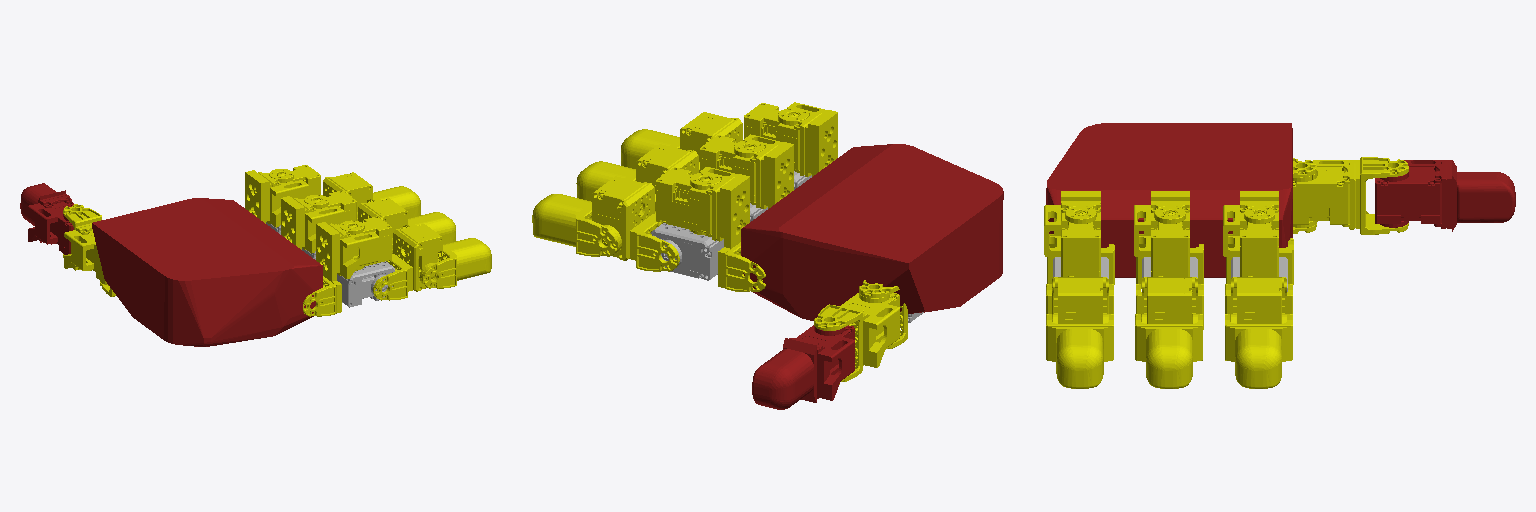
The robot description file, URDF, robot "leap_hand":
<?xml version="1.0" ?>
<robot name="leap_hand">
  <link name="palm_lower">
    <inertial>
      <origin xyz="0.0 0.0 0.0" rpy="0.0 0.0 0.0"/>
      <mass value="0.237"/>
      <inertia ixx="0.000354094" ixy="-1.193e-06" ixz="-2.445e-06" iyy="0.000260915" iyz="-2.905e-06" izz="0.000529257"/>
    </inertial>
    <visual>
      <geometry>
        <mesh filename="./hand_meshes/palm_lower.stl"/>
      </geometry>
      <material name="palm_lower_material"/>
      <origin xyz="-0.020095249652862544 0.025757756134899473 -0.034722403578460216" rpy="0.0 -0.0 0.0"/>
    </visual>
    <collision>
      <geometry>
        <mesh filename="./hand_meshes/palm_lower.stl"/>
      </geometry>
      <origin xyz="-0.020095249652862544 0.025757756134899473 -0.034722403578460216" rpy="0.0 -0.0 0.0"/>
    </collision>
  </link>
  <link name="mcp_joint">
    <inertial>
      <origin xyz="0.0 0.0 0.0" rpy="0.0 0.0 0.0"/>
      <mass value="0.044"/>
      <inertia ixx="1.1499e-05" ixy="3.049e-06" ixz="1.21e-07" iyy="7.796e-06" iyz="1.12e-07" izz="1.4759e-05"/>
    </inertial>
    <visual>
      <geometry>
        <mesh filename="./hand_meshes/mcp_joint.stl"/>
      </geometry>
      <material name="mcp_joint_material"/>
      <origin xyz="0.008406902261174496 0.0077662438597169954 0.014657354985032912" rpy="1.6375789613221e-15 -1.021047330249102e-30 1.7177968783327987e-31"/>
    </visual>
    <collision>
      <geometry>
        <mesh filename="./hand_meshes/mcp_joint.stl"/>
      </geometry>
      <origin xyz="0.008406902261174496 0.0077662438597169954 0.014657354985032912" rpy="1.6375789613221e-15 -1.021047330249102e-30 1.7177968783327987e-31"/>
    </collision>
  </link>
  <link name="pip">
    <inertial>
      <origin xyz="0.0 0.0 0.0" rpy="0.0 0.0 0.0"/>
      <mass value="0.032"/>
      <inertia ixx="4.798e-06" ixy="1.2e-08" ixz="4e-09" iyy="2.862e-06" iyz="1.1e-08" izz="4.234e-06"/>
    </inertial>
    <visual>
      <geometry>
        <mesh filename="./hand_meshes/pip.stl"/>
      </geometry>
      <material name="pip_material"/>
      <origin xyz="0.009643363092271328 0.0002999999999999895 0.0007840340104173765" rpy="-1.5707963267948966 -1.5707963267948966 0.0"/>
    </visual>
    <collision>
      <geometry>
        <mesh filename="./hand_meshes/pip.stl"/>
      </geometry>
      <origin xyz="0.009643363092271328 0.0002999999999999895 0.0007840340104173765" rpy="-1.5707963267948966 -1.5707963267948966 0.0"/>
    </collision>
  </link>
  <link name="dip">
    <inertial>
      <origin xyz="0.0 0.0 0.0" rpy="0.0 0.0 0.0"/>
      <mass value="0.037"/>
      <inertia ixx="5.542e-06" ixy="-6.07e-07" ixz="-1.7e-08" iyy="5.727e-06" iyz="-2.3e-08" izz="6.682e-06"/>
    </inertial>
    <visual>
      <geometry>
        <mesh filename="./hand_meshes/dip.stl"/>
      </geometry>
      <material name="dip_material"/>
      <origin xyz="0.021133352895225003 -0.00843211914670488 0.00978508816209524" rpy="-3.141592653589793 4.507511124216441e-32 4.439548105392361e-32"/>
    </visual>
    <collision>
      <geometry>
        <mesh filename="./hand_meshes/dip.stl"/>
      </geometry>
      <origin xyz="0.021133352895225003 -0.00843211914670488 0.00978508816209524" rpy="-3.141592653589793 4.507511124216441e-32 4.439548105392361e-32"/>
    </collision>
  </link>
  <link name="fingertip">
    <inertial>
      <origin xyz="0.0 0.0 0.0" rpy="0.0 0.0 0.0"/>
      <mass value="0.016"/>
      <inertia ixx="3.368e-06" ixy="1.15e-07" ixz="0.0" iyy="1.556e-06" iyz="0.0" izz="2.863e-06"/>
    </inertial>
    <visual>
      <geometry>
        <mesh filename="./hand_meshes/fingertip.stl"/>
      </geometry>
      <material name="fingertip_material"/>
      <origin xyz="0.013286424108533503 -0.006114238386541987 0.014499999999999498" rpy="3.141592653589793 1.1993117970061735e-33 4.439548105392361e-32"/>
    </visual>
    <collision>
      <geometry>
        <mesh filename="./hand_meshes/fingertip.stl"/>
      </geometry>
      <origin xyz="0.013286424108533503 -0.006114238386541987 0.014499999999999498" rpy="3.141592653589793 1.1993117970061735e-33 4.439548105392361e-32"/>
    </collision>
  </link>
  <link name="mcp_joint_2">
    <inertial>
      <origin xyz="0.0 0.0 0.0" rpy="0.0 0.0 0.0"/>
      <mass value="0.044"/>
      <inertia ixx="1.1499e-05" ixy="3.049e-06" ixz="1.21e-07" iyy="7.796e-06" iyz="1.12e-07" izz="1.4759e-05"/>
    </inertial>
    <visual>
      <geometry>
        <mesh filename="./hand_meshes/mcp_joint.stl"/>
      </geometry>
      <material name="mcp_joint_material"/>
      <origin xyz="0.008406902261174496 0.0077662438597169954 0.014657354985032914" rpy="1.6375789613221e-15 -1.0076465469034e-30 2.1209300131419907e-61"/>
    </visual>
    <collision>
      <geometry>
        <mesh filename="./hand_meshes/mcp_joint.stl"/>
      </geometry>
      <origin xyz="0.008406902261174496 0.0077662438597169954 0.014657354985032914" rpy="1.6375789613221e-15 -1.0076465469034e-30 2.1209300131419907e-61"/>
    </collision>
  </link>
  <link name="pip_2">
    <inertial>
      <origin xyz="0.0 0.0 0.0" rpy="0.0 0.0 0.0"/>
      <mass value="0.032"/>
      <inertia ixx="4.798e-06" ixy="1.2e-08" ixz="4e-09" iyy="2.862e-06" iyz="1.1e-08" izz="4.234e-06"/>
    </inertial>
    <visual>
      <geometry>
        <mesh filename="./hand_meshes/pip.stl"/>
      </geometry>
      <material name="pip_material"/>
      <origin xyz="0.009643363092271328 0.0002999999999999947 0.0007840340104173765" rpy="-1.5707963267948966 -1.5707963267948966 0.0"/>
    </visual>
    <collision>
      <geometry>
        <mesh filename="./hand_meshes/pip.stl"/>
      </geometry>
      <origin xyz="0.009643363092271328 0.0002999999999999947 0.0007840340104173765" rpy="-1.5707963267948966 -1.5707963267948966 0.0"/>
    </collision>
  </link>
  <link name="dip_2">
    <inertial>
      <origin xyz="0.0 0.0 0.0" rpy="0.0 0.0 0.0"/>
      <mass value="0.037"/>
      <inertia ixx="5.542e-06" ixy="-6.07e-07" ixz="-1.7e-08" iyy="5.727e-06" iyz="-2.3e-08" izz="6.682e-06"/>
    </inertial>
    <visual>
      <geometry>
        <mesh filename="./hand_meshes/dip.stl"/>
      </geometry>
      <material name="dip_material"/>
      <origin xyz="0.021133352895225003 -0.008432119146704865 0.009785088162095237" rpy="-3.141592653589793 2.1146933785271956e-32 1.4408183216511869e-31"/>
    </visual>
    <collision>
      <geometry>
        <mesh filename="./hand_meshes/dip.stl"/>
      </geometry>
      <origin xyz="0.021133352895225003 -0.008432119146704865 0.009785088162095237" rpy="-3.141592653589793 2.1146933785271956e-32 1.4408183216511869e-31"/>
    </collision>
  </link>
  <link name="fingertip_2">
    <inertial>
      <origin xyz="0.0 0.0 0.0" rpy="0.0 0.0 0.0"/>
      <mass value="0.016"/>
      <inertia ixx="3.368e-06" ixy="1.15e-07" ixz="0.0" iyy="1.556e-06" iyz="0.0" izz="2.863e-06"/>
    </inertial>
    <visual>
      <geometry>
        <mesh filename="./hand_meshes/fingertip.stl"/>
      </geometry>
      <material name="fingertip_material"/>
      <origin xyz="0.013286424108533496 -0.006114238386542001 0.014499999999999496" rpy="3.141592653589793 -4.317959788283594e-33 1.4408183216511869e-31"/>
    </visual>
    <collision>
      <geometry>
        <mesh filename="./hand_meshes/fingertip.stl"/>
      </geometry>
      <origin xyz="0.013286424108533496 -0.006114238386542001 0.014499999999999496" rpy="3.141592653589793 -4.317959788283594e-33 1.4408183216511869e-31"/>
    </collision>
  </link>
  <link name="mcp_joint_3">
    <inertial>
      <origin xyz="0.0 0.0 0.0" rpy="0.0 0.0 0.0"/>
      <mass value="0.044"/>
      <inertia ixx="1.1499e-05" ixy="3.049e-06" ixz="1.21e-07" iyy="7.796e-06" iyz="1.12e-07" izz="1.4759e-05"/>
    </inertial>
    <visual>
      <geometry>
        <mesh filename="./hand_meshes/mcp_joint.stl"/>
      </geometry>
      <material name="mcp_joint_material"/>
      <origin xyz="0.0084069022611745 0.007766243859716996 0.014657354985032914" rpy="1.6375789613221e-15 -1.0059504988632627e-30 5.729641584552035e-32"/>
    </visual>
    <collision>
      <geometry>
        <mesh filename="./hand_meshes/mcp_joint.stl"/>
      </geometry>
      <origin xyz="0.0084069022611745 0.007766243859716996 0.014657354985032914" rpy="1.6375789613221e-15 -1.0059504988632627e-30 5.729641584552035e-32"/>
    </collision>
  </link>
  <link name="pip_3">
    <inertial>
      <origin xyz="0.0 0.0 0.0" rpy="0.0 0.0 0.0"/>
      <mass value="0.032"/>
      <inertia ixx="4.798e-06" ixy="1.2e-08" ixz="4e-09" iyy="2.862e-06" iyz="1.1e-08" izz="4.234e-06"/>
    </inertial>
    <visual>
      <geometry>
        <mesh filename="./hand_meshes/pip.stl"/>
      </geometry>
      <material name="pip_material"/>
      <origin xyz="0.009643363092271331 0.00029999999999998084 0.0007840340104173765" rpy="-1.5707963267948966 -1.5707963267948966 0.0"/>
    </visual>
    <collision>
      <geometry>
        <mesh filename="./hand_meshes/pip.stl"/>
      </geometry>
      <origin xyz="0.009643363092271331 0.00029999999999998084 0.0007840340104173765" rpy="-1.5707963267948966 -1.5707963267948966 0.0"/>
    </collision>
  </link>
  <link name="dip_3">
    <inertial>
      <origin xyz="0.0 0.0 0.0" rpy="0.0 0.0 0.0"/>
      <mass value="0.037"/>
      <inertia ixx="5.542e-06" ixy="-6.07e-07" ixz="-1.7e-08" iyy="5.727e-06" iyz="-2.3e-08" izz="6.682e-06"/>
    </inertial>
    <visual>
      <geometry>
        <mesh filename="./hand_meshes/dip.stl"/>
      </geometry>
      <material name="dip_material"/>
      <origin xyz="0.021133352895225006 -0.008432119146704865 0.009785088162095237" rpy="-3.141592653589793 -1.4095651113919093e-33 1.5565411607615035e-32"/>
    </visual>
    <collision>
      <geometry>
        <mesh filename="./hand_meshes/dip.stl"/>
      </geometry>
      <origin xyz="0.021133352895225006 -0.008432119146704865 0.009785088162095237" rpy="-3.141592653589793 -1.4095651113919093e-33 1.5565411607615035e-32"/>
    </collision>
  </link>
  <link name="fingertip_3">
    <inertial>
      <origin xyz="0.0 0.0 0.0" rpy="0.0 0.0 0.0"/>
      <mass value="0.016"/>
      <inertia ixx="3.368e-06" ixy="1.15e-07" ixz="0.0" iyy="1.556e-06" iyz="0.0" izz="2.863e-06"/>
    </inertial>
    <visual>
      <geometry>
        <mesh filename="./hand_meshes/fingertip.stl"/>
      </geometry>
      <material name="fingertip_material"/>
      <origin xyz="0.013286424108533501 -0.006114238386541987 0.0144999999999995" rpy="3.141592653589793 8.61707169505754e-33 1.5565411607615035e-32"/>
    </visual>
    <collision>
      <geometry>
        <mesh filename="./hand_meshes/fingertip.stl"/>
      </geometry>
      <origin xyz="0.013286424108533501 -0.006114238386541987 0.0144999999999995" rpy="3.141592653589793 8.61707169505754e-33 1.5565411607615035e-32"/>
    </collision>
  </link>
  <link name="pip_4">
    <inertial>
      <origin xyz="0.0 0.0 0.0" rpy="0.0 0.0 0.0"/>
      <mass value="0.032"/>
      <inertia ixx="4.798e-06" ixy="1.2e-08" ixz="4e-09" iyy="2.862e-06" iyz="1.1e-08" izz="4.234e-06"/>
    </inertial>
    <visual>
      <geometry>
        <mesh filename="./hand_meshes/pip.stl"/>
      </geometry>
      <material name="pip_material"/>
      <origin xyz="-0.005356636907728671 0.0002999999999999999 0.0007840340104173782" rpy="-1.5707963267948966 -1.5707963267948966 0.0"/>
    </visual>
    <collision>
      <geometry>
        <mesh filename="./hand_meshes/pip.stl"/>
      </geometry>
      <origin xyz="-0.005356636907728671 0.0002999999999999999 0.0007840340104173782" rpy="-1.5707963267948966 -1.5707963267948966 0.0"/>
    </collision>
  </link>
  <link name="thumb_pip">
    <inertial>
      <origin xyz="0.0 0.0 0.0" rpy="0.0 0.0 0.0"/>
      <mass value="0.003"/>
      <inertia ixx="5.93e-07" ixy="0.0" ixz="0.0" iyy="5.49e-07" iyz="0.0" izz="2.24e-07"/>
    </inertial>
    <visual>
      <geometry>
        <mesh filename="./hand_meshes/thumb_pip.stl"/>
      </geometry>
      <material name="thumb_pip_material"/>
      <origin xyz="0.011961920770611187 -5.30825383648903e-16 -0.0158526489566642" rpy="1.5707963267948966 1.6050198443300153e-46 -3.9204996250525193e-59"/>
    </visual>
    <collision>
      <geometry>
        <mesh filename="./hand_meshes/thumb_pip.stl"/>
      </geometry>
      <origin xyz="0.011961920770611187 -5.30825383648903e-16 -0.0158526489566642" rpy="1.5707963267948966 1.6050198443300153e-46 -3.9204996250525193e-59"/>
    </collision>
  </link>
  <link name="thumb_dip">
    <inertial>
      <origin xyz="0.0 0.0 0.0" rpy="0.0 0.0 0.0"/>
      <mass value="0.038"/>
      <inertia ixx="8.474e-06" ixy="2.41e-07" ixz="2.6e-08" iyy="3.841e-06" iyz="2.5e-08" izz="7.679e-06"/>
    </inertial>
    <visual>
      <geometry>
        <mesh filename="./hand_meshes/thumb_dip.stl"/>
      </geometry>
      <material name="thumb_dip_material"/>
      <origin xyz="0.043968715707239175 0.0579529529737092 -0.008628676449369476" rpy="1.94289029309401e-16 3.27515792264422e-15 1.112375852965736e-46"/>
    </visual>
    <collision>
      <geometry>
        <mesh filename="./hand_meshes/thumb_dip.stl"/>
      </geometry>
      <origin xyz="0.043968715707239175 0.0579529529737092 -0.008628676449369476" rpy="1.94289029309401e-16 3.27515792264422e-15 1.112375852965736e-46"/>
    </collision>
  </link>
  <link name="thumb_fingertip">
    <inertial>
      <origin xyz="0.0 0.0 0.0" rpy="0.0 0.0 0.0"/>
      <mass value="0.049"/>
      <inertia ixx="2.0372e-05" ixy="-4.89e-07" ixz="-3e-08" iyy="4.336e-06" iyz="-9.7e-08" izz="1.9845e-05"/>
    </inertial>
    <visual>
      <geometry>
        <mesh filename="./hand_meshes/thumb_fingertip.stl"/>
      </geometry>
      <material name="thumb_fingertip_material"/>
      <origin xyz="0.06255953846266739 0.07845968291139699 0.048992911807332215" rpy="4.379057701015637e-47 -3.33066907387547e-16 1.2042408677791935e-46"/>
    </visual>
    <collision>
      <geometry>
        <mesh filename="./hand_meshes/thumb_fingertip.stl"/>
      </geometry>
      <origin xyz="0.06255953846266739 0.07845968291139699 0.048992911807332215" rpy="4.379057701015637e-47 -3.33066907387547e-16 1.2042408677791935e-46"/>
    </collision>
  </link>
  <joint name="0" type="revolute">
    <limit effort="0.95" velocity="8.48" lower="-0.5" upper="0.5"/>
    <parent link="mcp_joint"/>
    <child link="pip"/>
    <axis xyz=" 0.  0. -1."/>
    <origin xyz="-0.012200000000000008 0.038099999999999995 0.0145" rpy="-1.5707963267948966 -1.0065212660796337e-15 1.5707963267948943"/>
  </joint>
  <joint name="1" type="revolute">
    <limit effort="0.95" velocity="8.48" lower="-0.314" upper="1.57"/>
    <parent link="palm_lower"/>
    <child link="mcp_joint"/>
    <axis xyz=" 0.  0. -1."/>
    <origin xyz="-0.007095249652862546 0.023057756134899472 -0.01872240357846022" rpy="1.570796326794895 1.5707963267948966 0.0"/>
  </joint>
  <joint name="2" type="revolute">
    <limit effort="0.95" velocity="8.48" lower="-0.314" upper="1.57"/>
    <parent link="pip"/>
    <child link="dip"/>
    <axis xyz=" 0.  0. -1."/>
    <origin xyz="0.014999999999999968 0.014299999999999905 -0.012999999999999824" rpy="1.570796326794896 -1.5707963267948966 0.0"/>
  </joint>
  <joint name="3" type="revolute">
    <limit effort="0.95" velocity="8.48" lower="-0.314" upper="1.57"/>
    <parent link="dip"/>
    <child link="fingertip"/>
    <axis xyz=" 0.  0. -1."/>
    <origin xyz="-4.088058249557269e-09 -0.03610000421036737 0.0002000000000000786" rpy="4.5935029425113685e-17 -2.8730071914463795e-16 4.439548105392361e-32"/>
  </joint>
  <joint name="4" type="revolute">
    <limit effort="0.95" velocity="8.48" lower="-0.5" upper="0.5"/>
    <parent link="mcp_joint_2"/>
    <child link="pip_2"/>
    <axis xyz=" 0.  0. -1."/>
    <origin xyz="-0.01220000000000002 0.03809999999999998 0.014500000000000006" rpy="-1.5707963267948966 -1.006521276005794e-15 1.5707963267948943"/>
  </joint>
  <joint name="5" type="revolute">
    <limit effort="0.95" velocity="8.48" lower="-0.314" upper="1.57"/>
    <parent link="palm_lower"/>
    <child link="mcp_joint_2"/>
    <axis xyz=" 0.  0. -1."/>
    <origin xyz="-0.007095249652862539 -0.022392243865100525 -0.01872240357846023" rpy="1.5707963267948966 1.5707963267948966 0.0"/>
  </joint>
  <joint name="6" type="revolute">
    <limit effort="0.95" velocity="8.48" lower="-0.314" upper="1.57"/>
    <parent link="pip_2"/>
    <child link="dip_2"/>
    <axis xyz=" 0.  0. -1."/>
    <origin xyz="0.014999999999999975 0.0143 -0.013000000000000018" rpy="1.570796326794896 -1.5707963267948966 0.0"/>
  </joint>
  <joint name="7" type="revolute">
    <limit effort="0.95" velocity="8.48" lower="-0.314" upper="1.57"/>
    <parent link="dip_2"/>
    <child link="fingertip_2"/>
    <axis xyz=" 0.  0. -1."/>
    <origin xyz="1.0061396160665481e-16 -0.036099999999999854 0.0002000000000000786" rpy="4.5935029425113654e-17 -2.8730071914463795e-16 1.4408183216511869e-31"/>
  </joint>
  <joint name="8" type="revolute">
    <limit effort="0.95" velocity="8.48" lower="-0.5" upper="0.5"/>
    <parent link="mcp_joint_3"/>
    <child link="pip_3"/>
    <axis xyz=" 0.  0. -1."/>
    <origin xyz="-0.012200000000000004 0.0381 0.014499999999999999" rpy="-1.5707963267948966 -1.006521266079636e-15 1.5707963267948943"/>
  </joint>
  <joint name="9" type="revolute">
    <limit effort="0.95" velocity="8.48" lower="-0.314" upper="1.57"/>
    <parent link="palm_lower"/>
    <child link="mcp_joint_3"/>
    <axis xyz=" 0.  0. -1."/>
    <origin xyz="-0.007095245442639837 -0.06784224386510052 -0.018722407666402933" rpy="1.570796326794895 1.5707963267948966 0.0"/>
  </joint>
  <joint name="10" type="revolute">
    <limit effort="0.95" velocity="8.48" lower="-0.314" upper="1.57"/>
    <parent link="pip_3"/>
    <child link="dip_3"/>
    <axis xyz=" 0.  0. -1."/>
    <origin xyz="0.014999999999999972 0.014299999999999952 -0.01299999999999996" rpy="1.570796326794896 -1.5707963267948966 0.0"/>
  </joint>
  <joint name="11" type="revolute">
    <limit effort="0.95" velocity="8.48" lower="-0.314" upper="1.57"/>
    <parent link="dip_3"/>
    <child link="fingertip_3"/>
    <axis xyz=" 0.  0. -1."/>
    <origin xyz="9.71445146547012e-17 -0.03609999999999987 0.00020000000000007512" rpy="4.5935029425113685e-17 -2.87300719144638e-16 1.5565411607615035e-32"/>
  </joint>
  <joint name="12" type="revolute">
    <limit effort="0.95" velocity="8.48" lower="-0.349" upper="2.094"/>
    <parent link="palm_lower"/>
    <child link="pip_4"/>
    <axis xyz=" 0.  0. -1."/>
    <origin xyz="-0.06939524965286253 -0.0012422438651005258 -0.021622403578460216" rpy="-8.238176646493942e-17 1.5707963267948966 0.0"/>
  </joint>
  <joint name="13" type="revolute">
    <limit effort="0.95" velocity="8.48" lower="-0.1" upper="1.0"/>
    <parent link="pip_4"/>
    <child link="thumb_pip"/>
    <axis xyz=" 0.  0. -1."/>
    <origin xyz="-2.7755575615628914e-17 0.014300000000000005 -0.013000000000000012" rpy="1.570796326794896 -1.5707963267948966 0.0"/>
  </joint>
  <joint name="14" type="revolute">
    <limit effort="0.95" velocity="8.48" lower="-0.314" upper="1.57"/>
    <parent link="thumb_pip"/>
    <child link="thumb_dip"/>
    <axis xyz=" 0.  0. -1."/>
    <origin xyz="0.0 0.014499999999999966 -0.017000000000000053" rpy="-1.5707963267948966 1.6050198443300131e-46 -1.9721522630516625e-31"/>
  </joint>
  <joint name="15" type="revolute">
    <limit effort="0.95" velocity="8.48" lower="-0.314" upper="1.57"/>
    <parent link="thumb_dip"/>
    <child link="thumb_fingertip"/>
    <axis xyz=" 0.  0. -1."/>
    <origin xyz="-1.249000902703301e-16 0.046599999999999864 0.0001999999999999771" rpy="1.506395849149178e-44 5.423418723393526e-31 3.141592653589793"/>
  </joint>
  <material name="palm_lower_material">
    <color rgba="0.60392157 0.14901961 0.14901961 1.        "/>
  </material>
  <material name="mcp_joint_material">
    <color rgba="0.86666667 0.86666667 0.05098039 1.        "/>
  </material>
  <material name="pip_material">
    <color rgba="0.74901961 0.74901961 0.74901961 1.        "/>
  </material>
  <material name="dip_material">
    <color rgba="0.86666667 0.86666667 0.05098039 1.        "/>
  </material>
  <material name="fingertip_material">
    <color rgba="0.86666667 0.86666667 0.05098039 1.        "/>
  </material>
  <material name="thumb_pip_material">
    <color rgba="0.86666667 0.86666667 0.05098039 1.        "/>
  </material>
  <material name="thumb_dip_material">
    <color rgba="0.86666667 0.86666667 0.05098039 1.        "/>
  </material>
  <material name="thumb_fingertip_material">
    <color rgba="0.60392157 0.14901961 0.14901961 1.        "/>
  </material>
</robot>

--- Facts derived from the render (not from the file) ---
Views: 3 orthographic renders of the robot side by side, from view 1: azimuth 30°, elevation 25°; view 2: azimuth 150°, elevation 25°; view 3: azimuth 270°, elevation 25°.
Robot: leap_hand — 17 links, 16 joints (16 revolute); root link palm_lower; default pose: all joints at 0.
Visible links, largest first — view 1: palm_lower, mcp_joint_3, dip_3, mcp_joint, mcp_joint_2, thumb_fingertip, fingertip_3, thumb_dip, pip_3, dip_2, dip, fingertip_2 (+1 smaller); view 2: palm_lower, mcp_joint, thumb_fingertip, dip, mcp_joint_2, mcp_joint_3, thumb_dip, fingertip, pip, dip_3, dip_2, fingertip_2 (+2 smaller); view 3: palm_lower, thumb_fingertip, thumb_dip, mcp_joint_3, mcp_joint, mcp_joint_2, fingertip_3, fingertip_2, fingertip, dip_2, dip_3, dip.
Boxes of the visible links, x1,y1,x2,y2 form: palm_lower: [92, 198, 322, 346]; mcp_joint_3: [303, 216, 391, 316]; dip_3: [373, 224, 442, 300]; mcp_joint: [245, 165, 320, 227]; mcp_joint_2: [281, 191, 356, 253]; thumb_fingertip: [20, 183, 73, 254]; fingertip_3: [422, 238, 491, 288]; thumb_dip: [63, 204, 108, 285]; pip_3: [337, 261, 394, 307]; dip_2: [358, 198, 407, 240]; dip: [323, 172, 372, 214]; fingertip_2: [392, 212, 455, 253]; palm_lower: [741, 144, 1003, 320]; mcp_joint: [656, 167, 765, 291]; thumb_fingertip: [752, 325, 854, 409]; dip: [592, 176, 679, 271]; mcp_joint_2: [700, 134, 793, 208]; mcp_joint_3: [744, 102, 837, 176]; thumb_dip: [814, 293, 899, 384]; fingertip: [532, 194, 618, 256]; pip: [651, 223, 723, 280]; dip_3: [680, 112, 742, 164]; dip_2: [636, 144, 698, 196]; fingertip_2: [576, 161, 655, 213]; palm_lower: [1046, 123, 1292, 277]; thumb_fingertip: [1375, 160, 1515, 231]; thumb_dip: [1293, 157, 1408, 234]; mcp_joint_3: [1044, 191, 1114, 284]; mcp_joint: [1223, 191, 1293, 284]; mcp_joint_2: [1134, 191, 1203, 288]; fingertip_3: [1046, 314, 1113, 388]; fingertip_2: [1135, 314, 1202, 388]; fingertip: [1225, 314, 1292, 388]; dip_2: [1136, 277, 1203, 329]; dip_3: [1046, 277, 1113, 323]; dip: [1225, 277, 1292, 323].
Size in the robot's own frame: 0.2325 by 0.2396 by 0.0632 metres.
17 mesh visuals loaded from 8 distinct referenced files (8 binary STL).